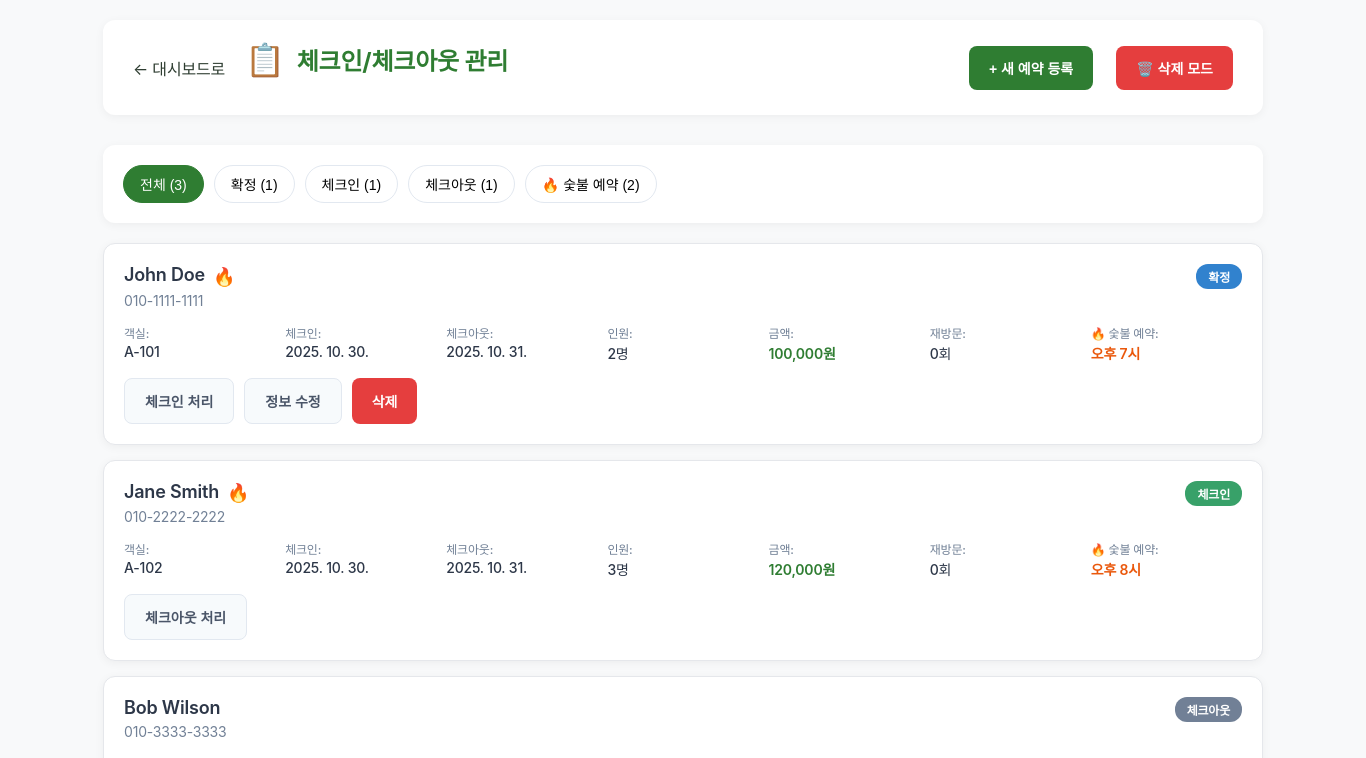
Test: ReservationManagement - Charcoal Reservation Display › Filter functionality - charcoal filter › should filter reservations to show only those with charcoal time when filter is clicked
This screenshot has width=1366, height=758.
Expected: the heading "John Doe🔥" is shown, 124,264 -> 235,287
Expected: the heading "Jane Smith🔥" is shown, 124,481 -> 249,503
// Click charcoal filter
Click the button "🔥 숯불 예약 (2)". click: (591, 184)
box: 525,165 -> 657,203
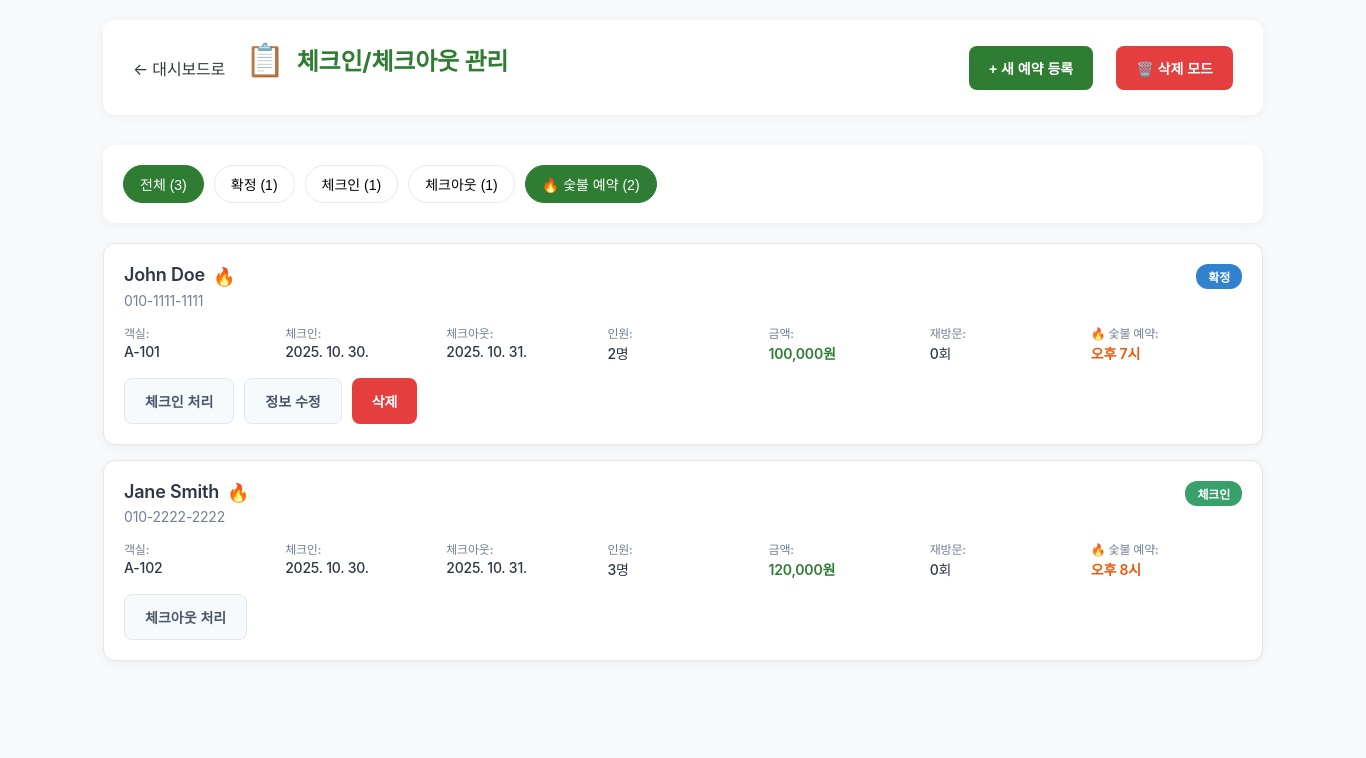
Expected: the heading "John Doe🔥" is shown, 124,264 -> 235,287
Expected: the heading "Bob Wilson" is gone
